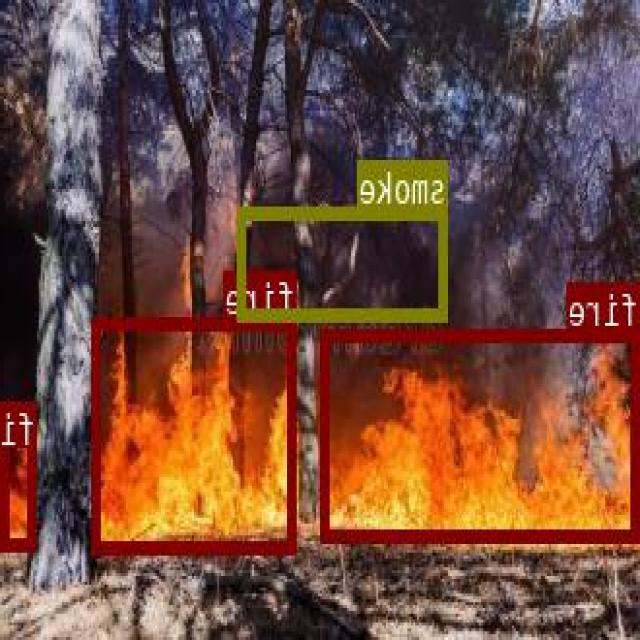fire: (322, 326, 640, 541), (95, 317, 298, 551), (4, 400, 37, 547)
smoke: (239, 204, 449, 320)
